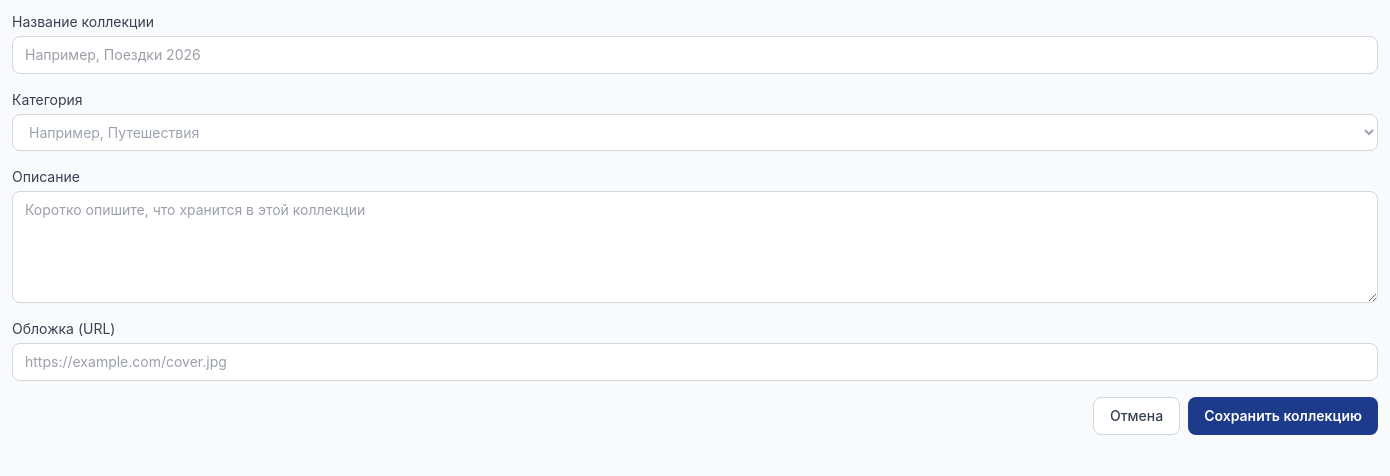
Test: CollectionForm › requires category selection before submit
The image size is (1390, 476).
In the field labelled "Название коллекции": coordinates (695, 55) [12, 36, 1378, 74], type "Нишевая коллекция"
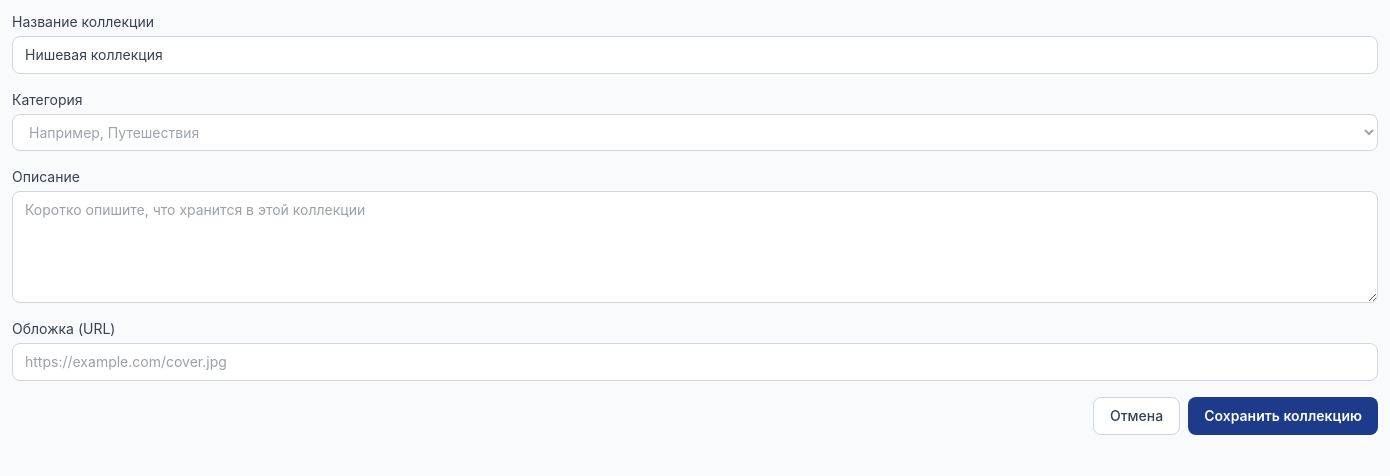
Click the button "Сохранить коллекцию": coordinates (1283, 416) [1188, 397, 1378, 435]
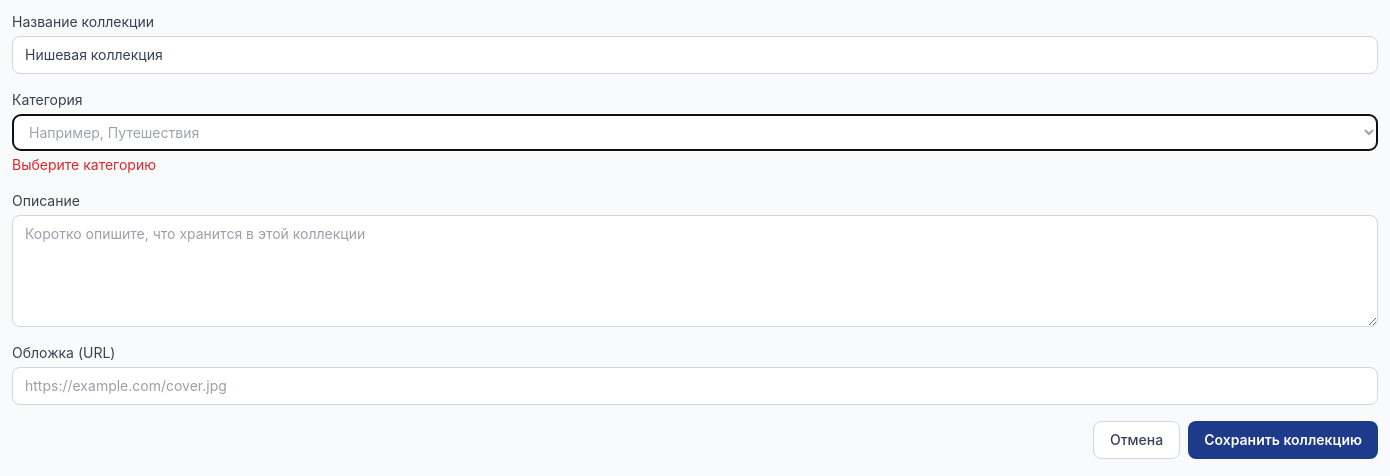
Expected: the text "Выберите категорию" is shown, [12, 156, 156, 173]
